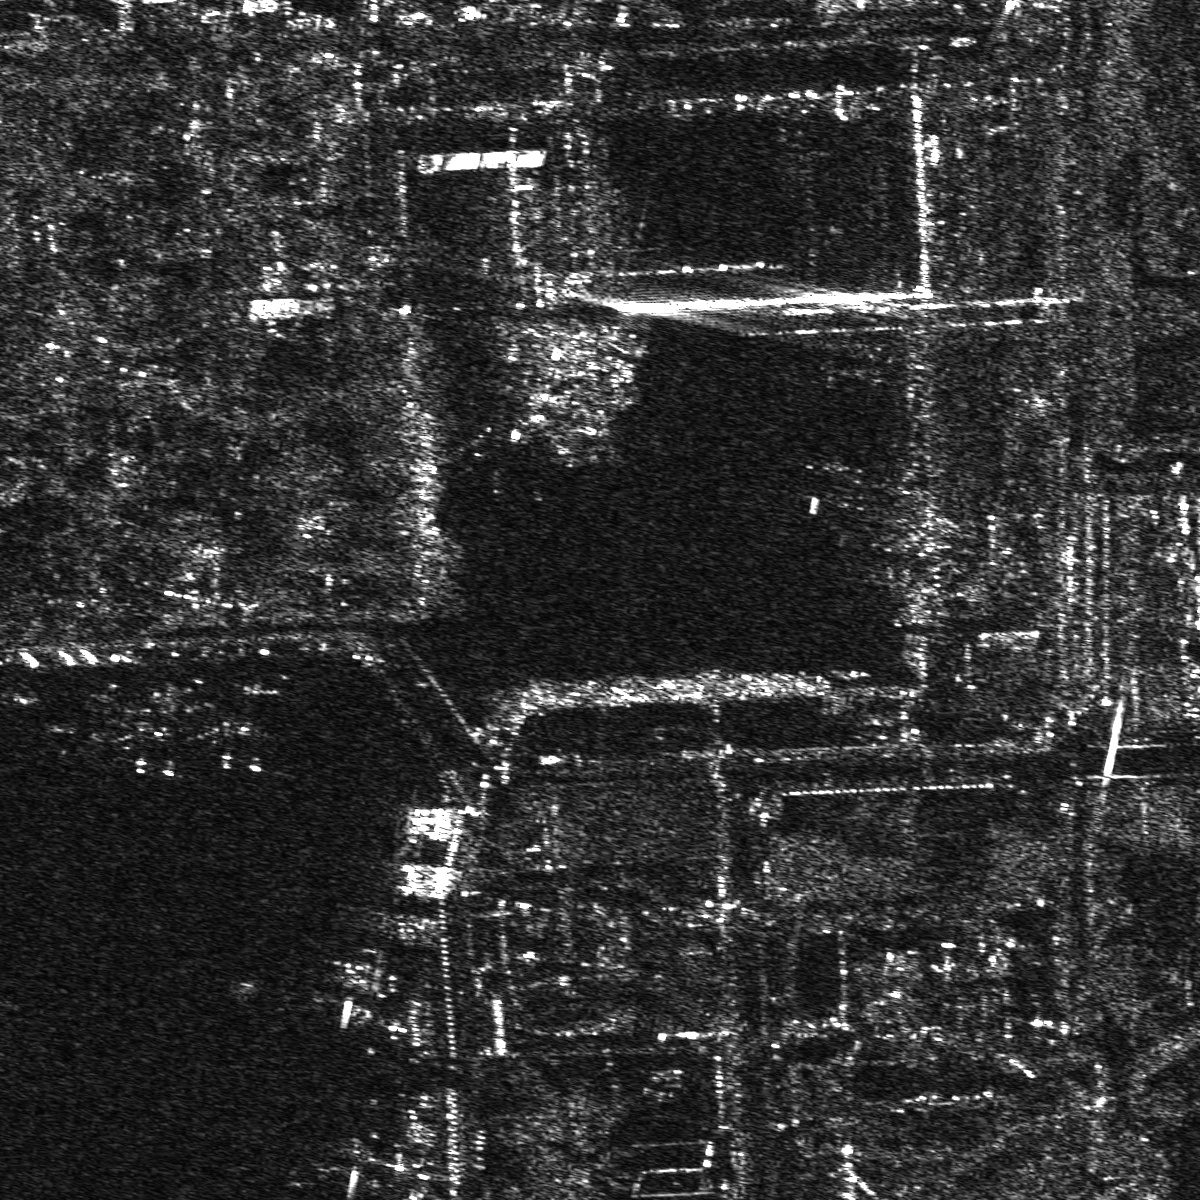A220: (805, 448, 869, 513)
ARJ21: (109, 692, 175, 779)
Boeing737: (189, 681, 280, 776)
